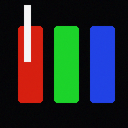4 line_v: (24, 5, 30, 61)
